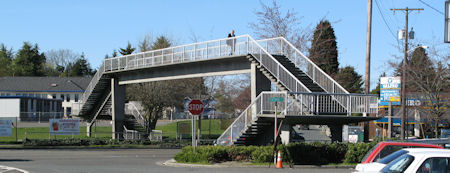bridge: (75, 32, 378, 145)
